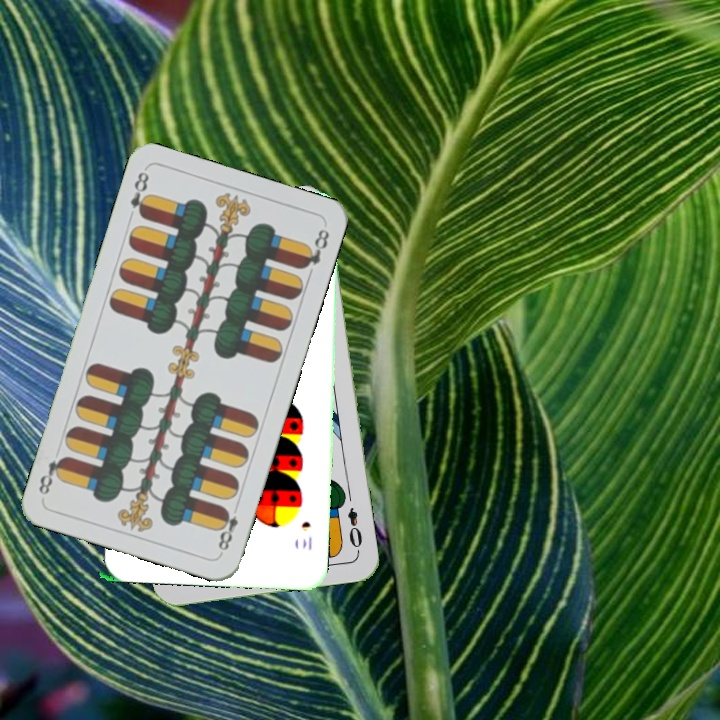E8: (213, 500, 242, 556), (126, 167, 153, 221)
EO: (343, 503, 365, 555)
S10: (297, 517, 315, 553)
